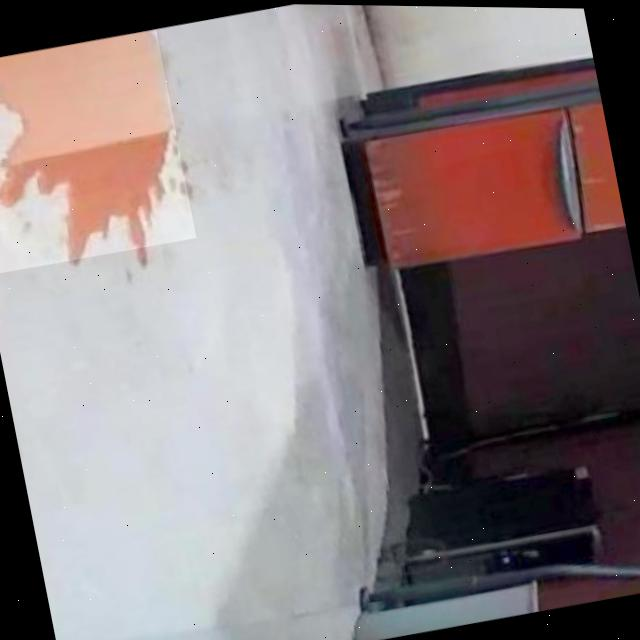spillage: (0, 31, 171, 258)
